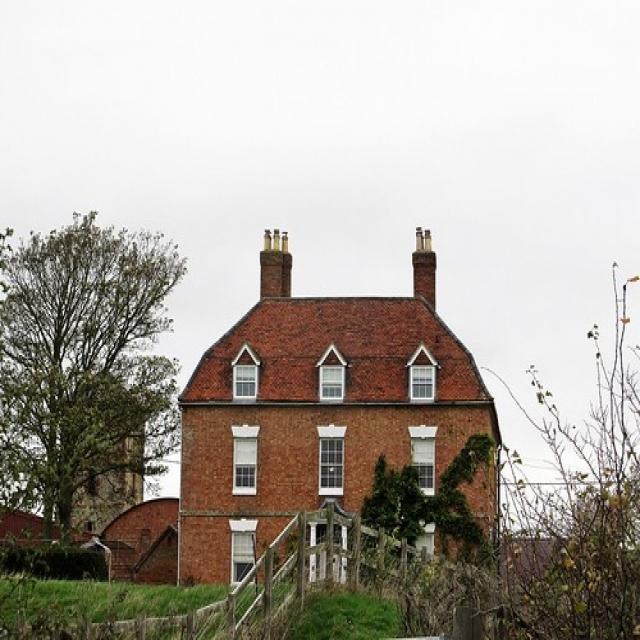Normal_building: (176, 230, 504, 598)
